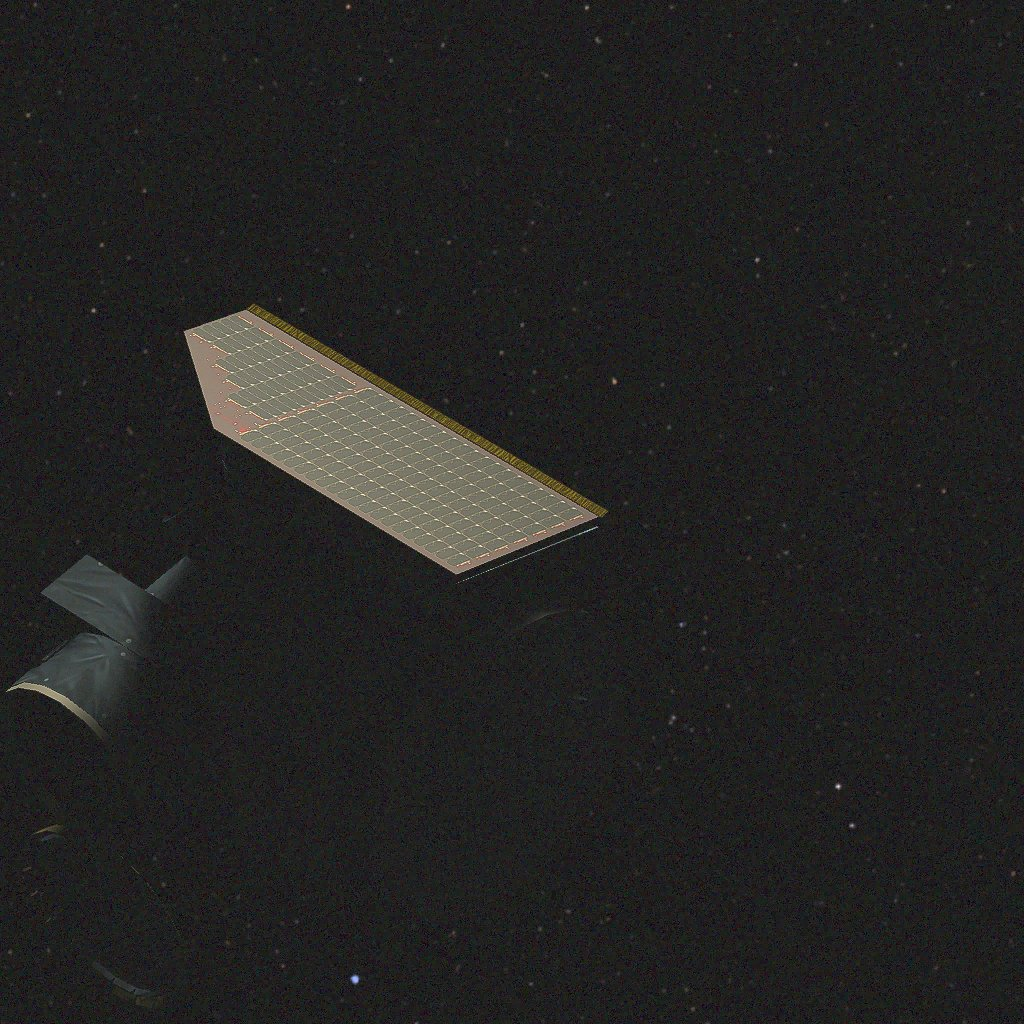cheops: (0, 304, 628, 1009)
